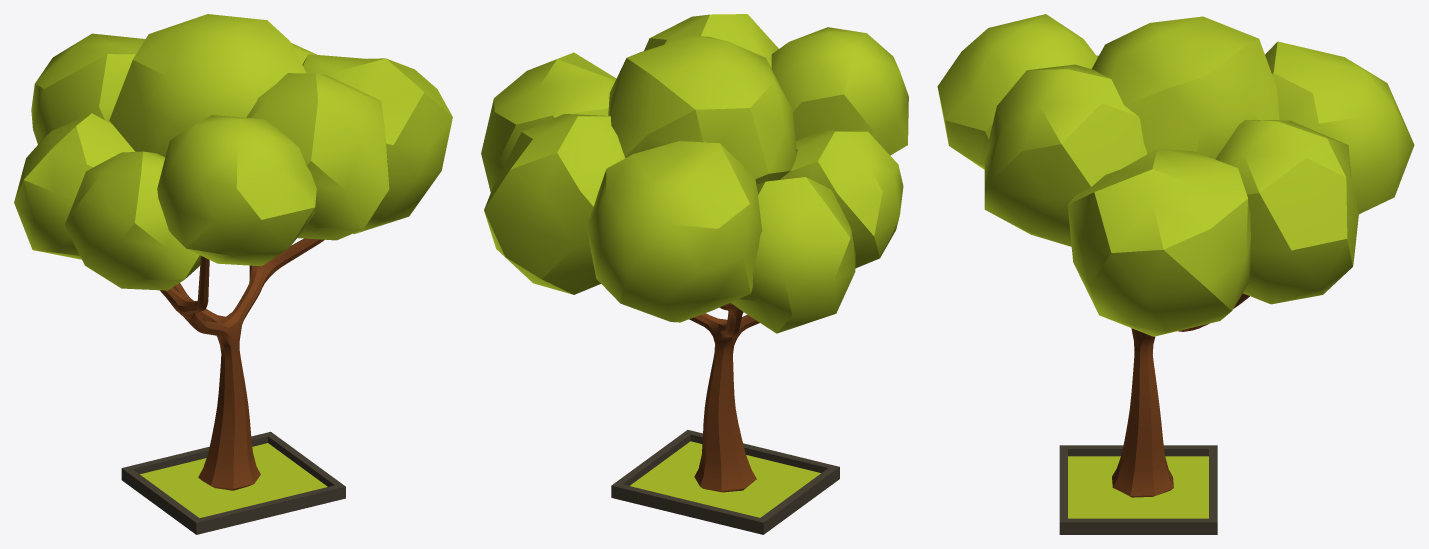
Rendered from tree3.fbx.
3 renders of one model, left to right at view 1: azimuth 30°, elevation 25°; view 2: azimuth 150°, elevation 25°; view 3: azimuth 270°, elevation 25°, orthographic. The views are drawn at different scales.
Visible parts, largest first — view 1: Cube; view 2: Cube; view 3: Cube.
Part boxes in pixels (x1=…): Cube: x1=14, y1=14, x2=452, y2=534; Cube: x1=481, y1=14, x2=908, y2=534; Cube: x1=937, y1=14, x2=1414, y2=534.
Size of the model in its own units: 381 by 427 by 391.
